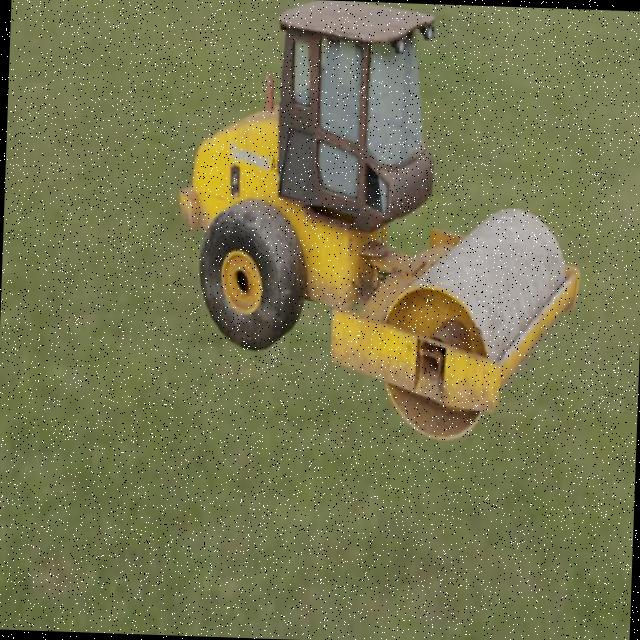Roller: (169, 0, 588, 443)
